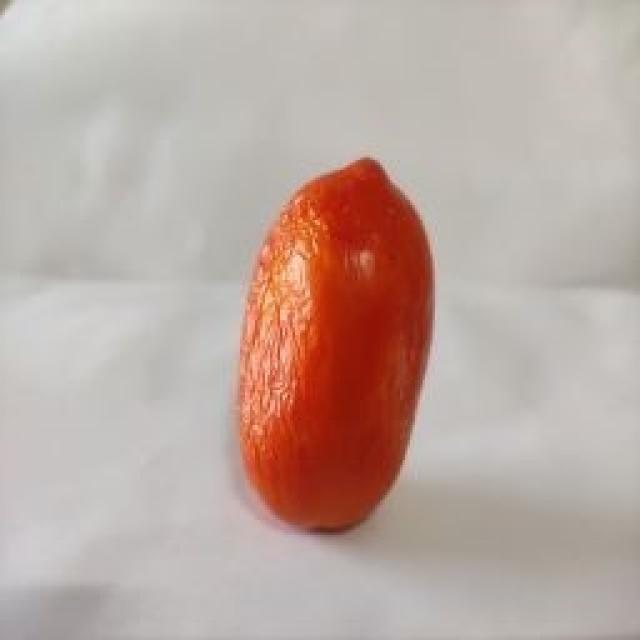overripe: (232, 154, 439, 532)
